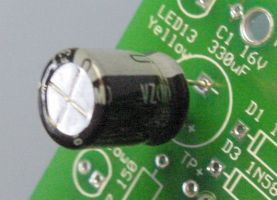capacitor: (37, 47, 189, 149)
